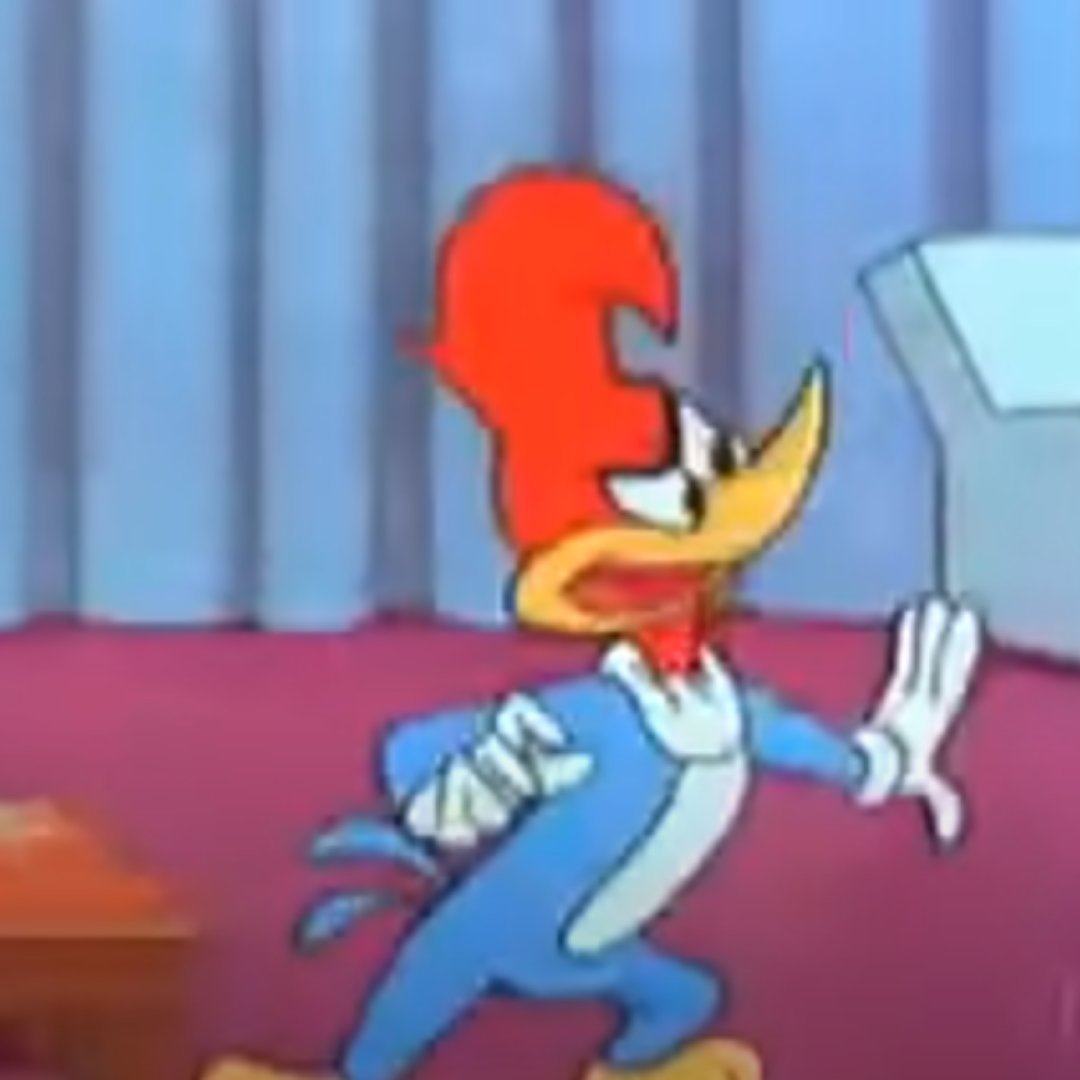picapau: (224, 152, 998, 1080)
